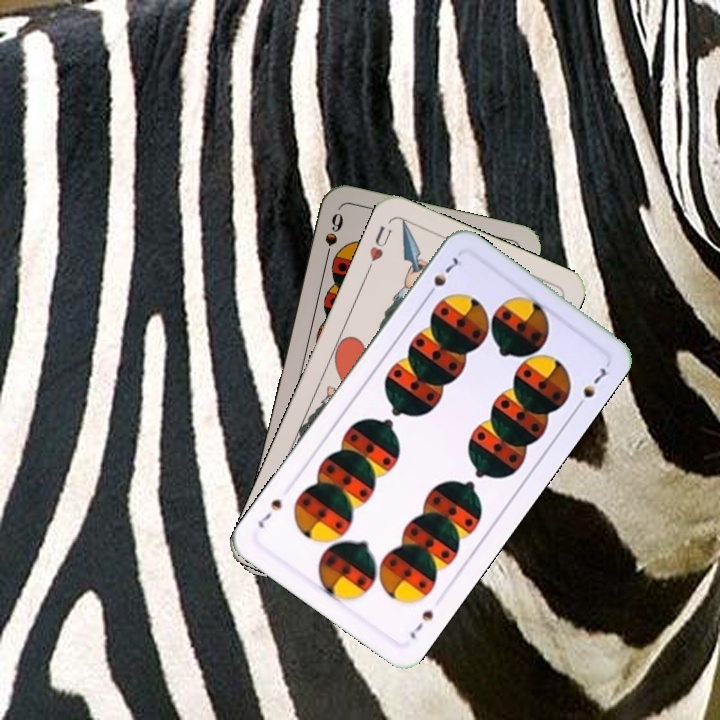HU: (363, 221, 395, 274)
S7: (421, 252, 464, 301), (405, 606, 436, 642)
S9: (320, 208, 346, 266)
